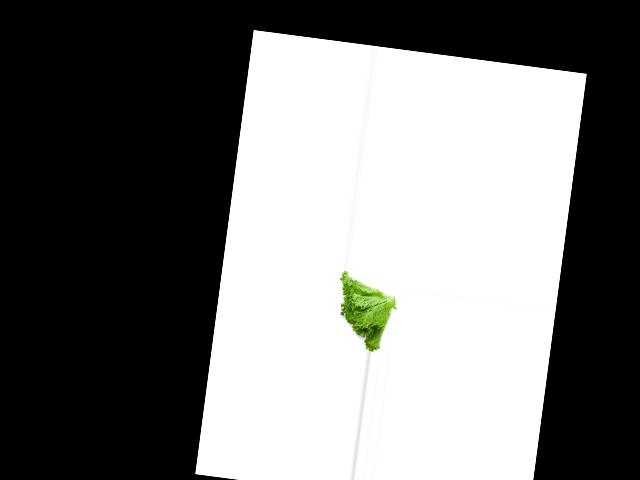lettuce: (329, 269, 398, 354)
